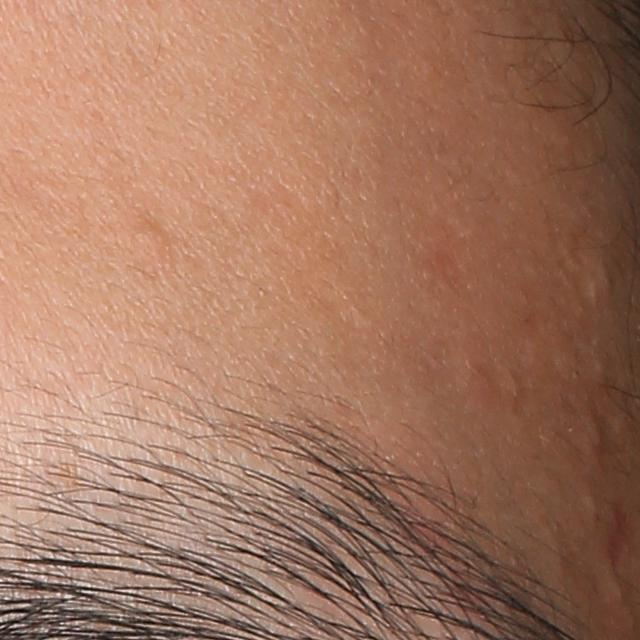comedo: (131, 220, 170, 253), (584, 493, 599, 519)
